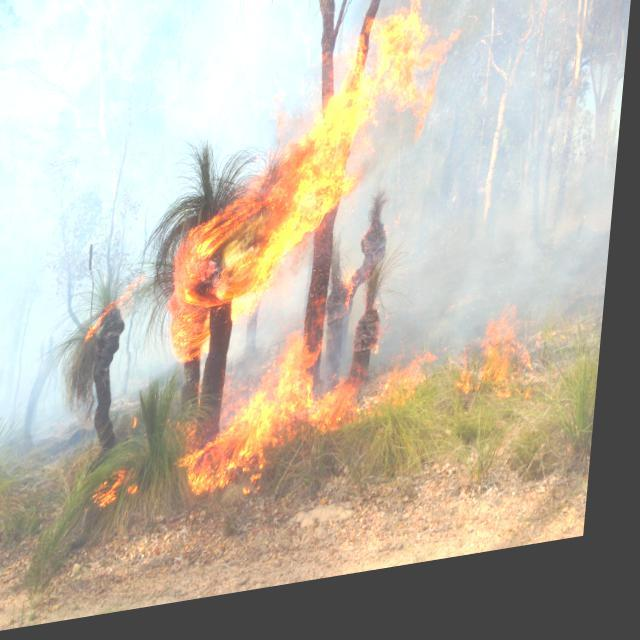Fire: (160, 0, 560, 527)
